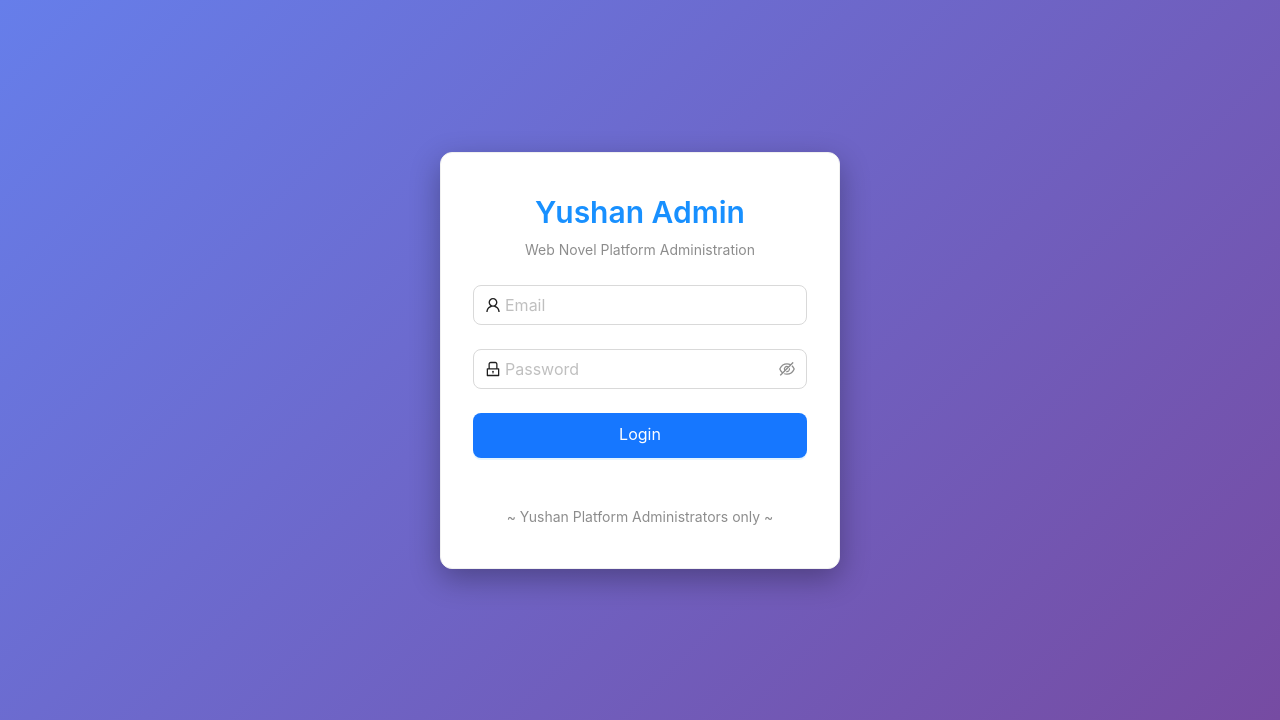
Test: AdminLogin Component › Form Validation › shows validation error for invalid email format
Type "invalid-email" into the field with placeholder "Email" at (650, 304), box [505, 292, 795, 316]
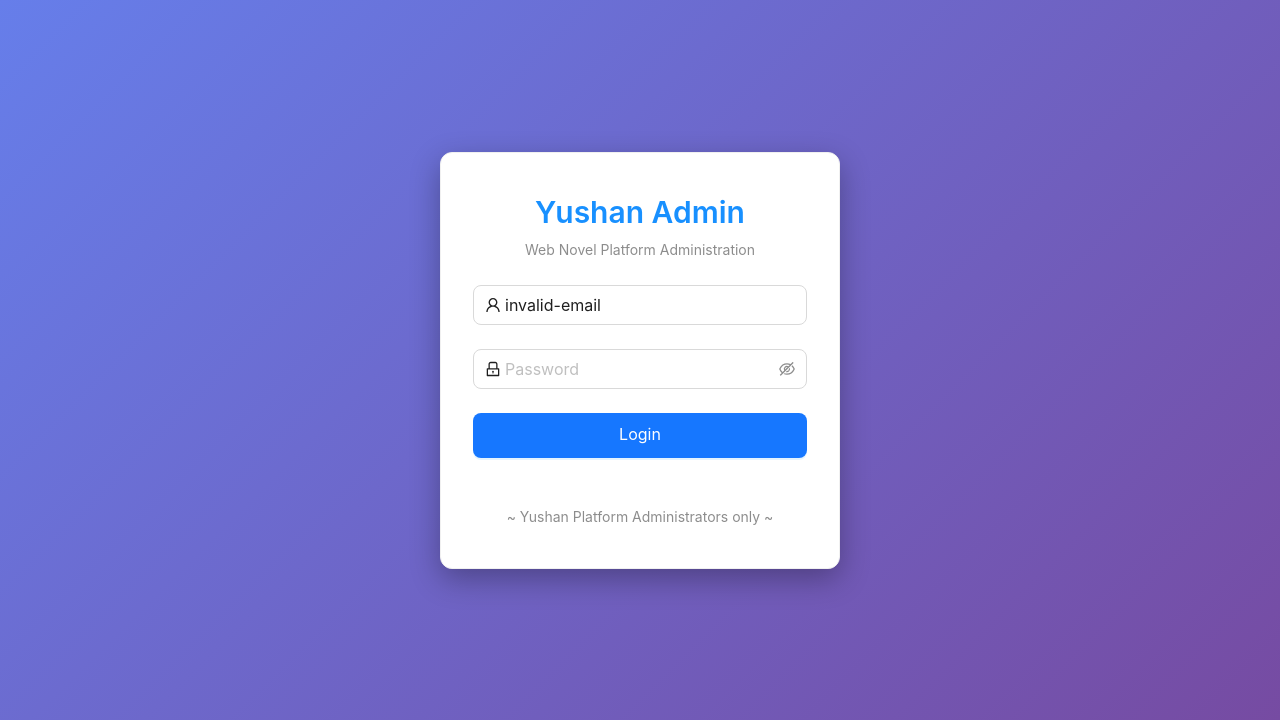
Click the button "Login" at (640, 435), box [473, 412, 807, 458]
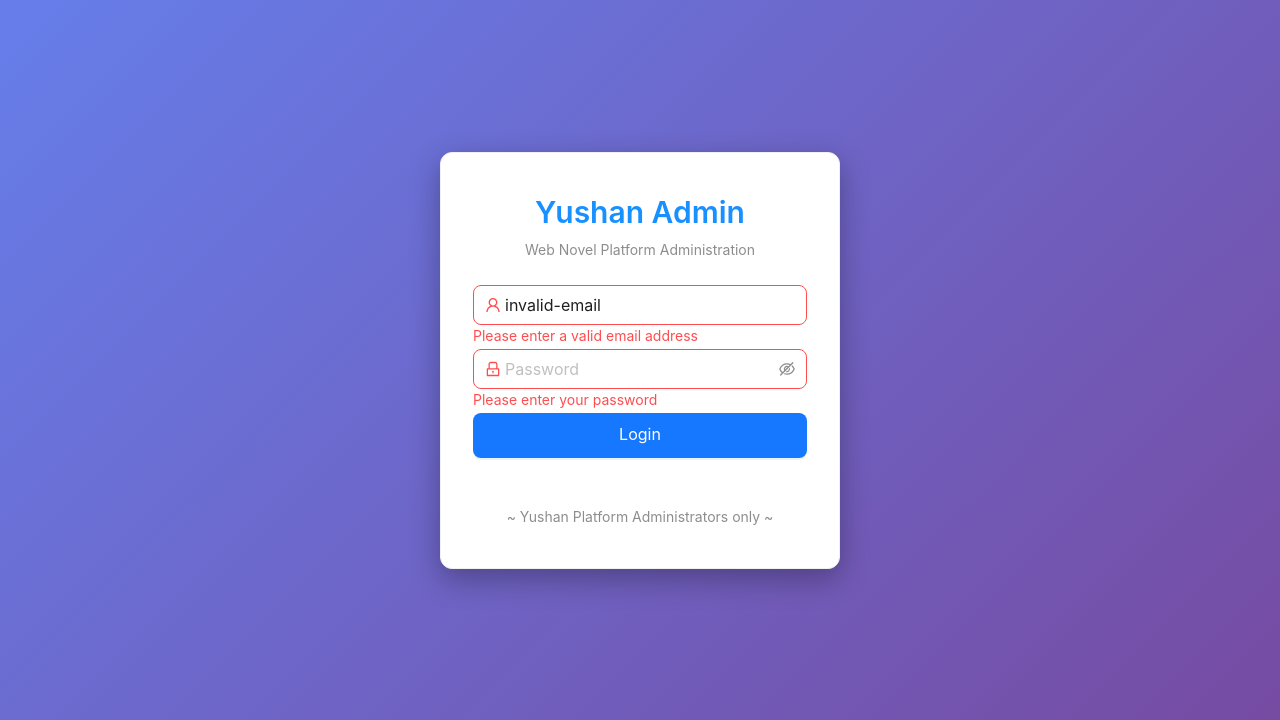
Expected: the text "Please enter a valid email address" is shown, [473, 326, 698, 344]
